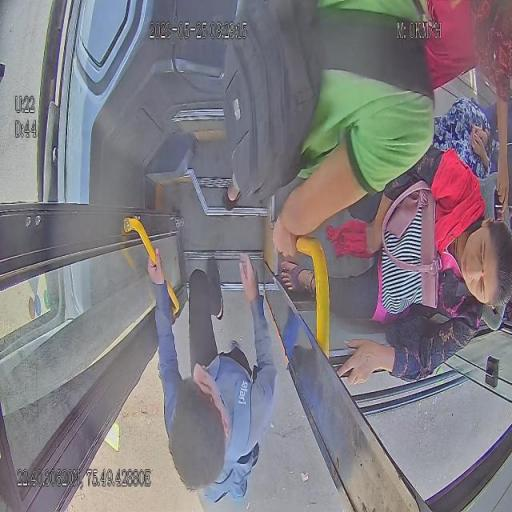persona: (278, 146, 512, 386), (220, 0, 436, 238), (146, 246, 278, 505), (432, 95, 492, 181)
